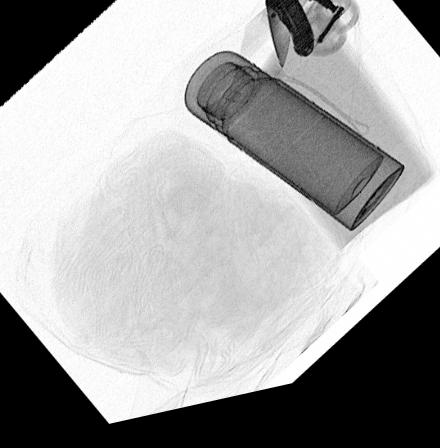Knife: (261, 0, 315, 83)
